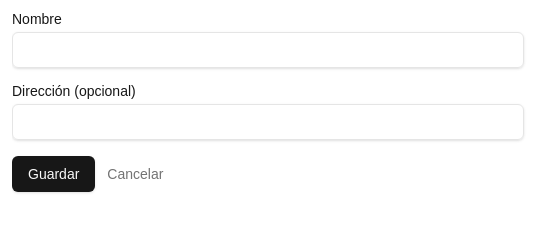
Test: LocationForm › should_render_a_form_level_error_when_the_cap_is_reached
Type "Sucursal Centro" into the field labelled "Nombre".
click(268, 50); type("Sucursal Centro")  # box [12,32,524,68]
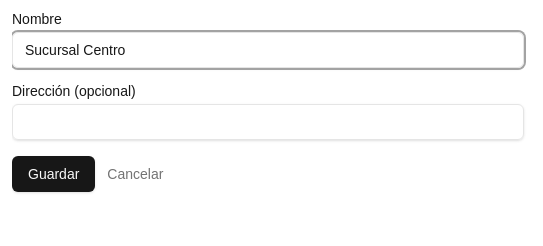
Click the button "Guardar".
click(54, 174)  # box [12,156,95,192]
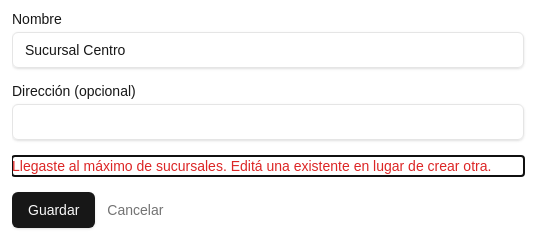
expect the message reads "Llegaste al máximo de sucursales. Editá una existente en lugar de crear otra.": met, box [12,158,491,174]
